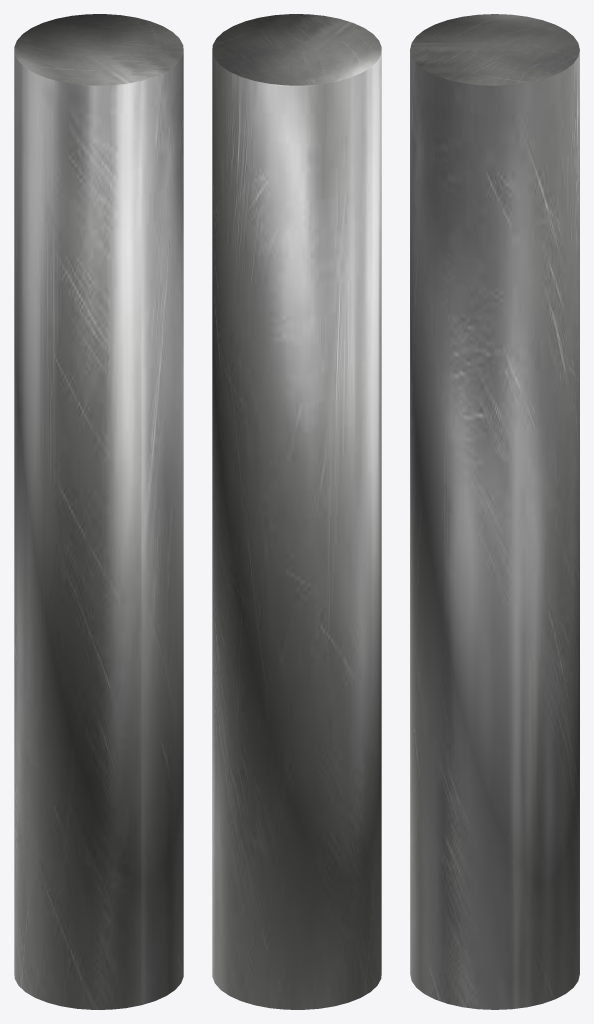
The model's file is TorrePlataforma.obj.
The picture shows the model from 3 angles, left to right: view 1: azimuth 30°, elevation 25°; view 2: azimuth 150°, elevation 25°; view 3: azimuth 270°, elevation 25°; orthographic projection.
Parts seen in each view (by area): view 1: Cylinder; view 2: Cylinder; view 3: Cylinder.
Boxes of the visible parts, x1=… form: Cylinder: x1=14, y1=14, x2=183, y2=1009; Cylinder: x1=212, y1=14, x2=381, y2=1009; Cylinder: x1=410, y1=14, x2=579, y2=1009.
Size of the model in its own units: 0.81 by 4.86 by 0.81.
